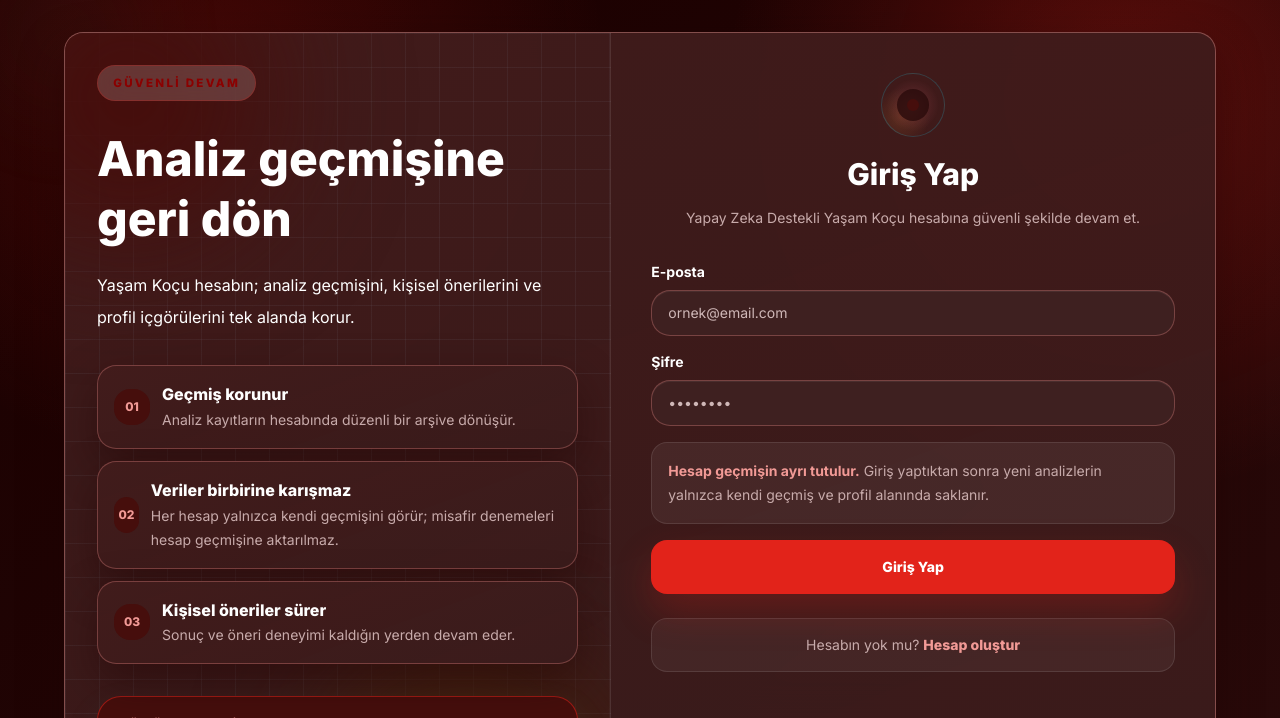
Scenario: Auth pages › login formu zorunlu alan uyarısını gösterir
Check: the field labelled "E-posta" is shown, box [651, 290, 1175, 336]
Check: the password field labelled "Şifre" is shown, box [651, 380, 1175, 426]
Click the button "Giriş Yap": (913, 567) [651, 540, 1175, 594]
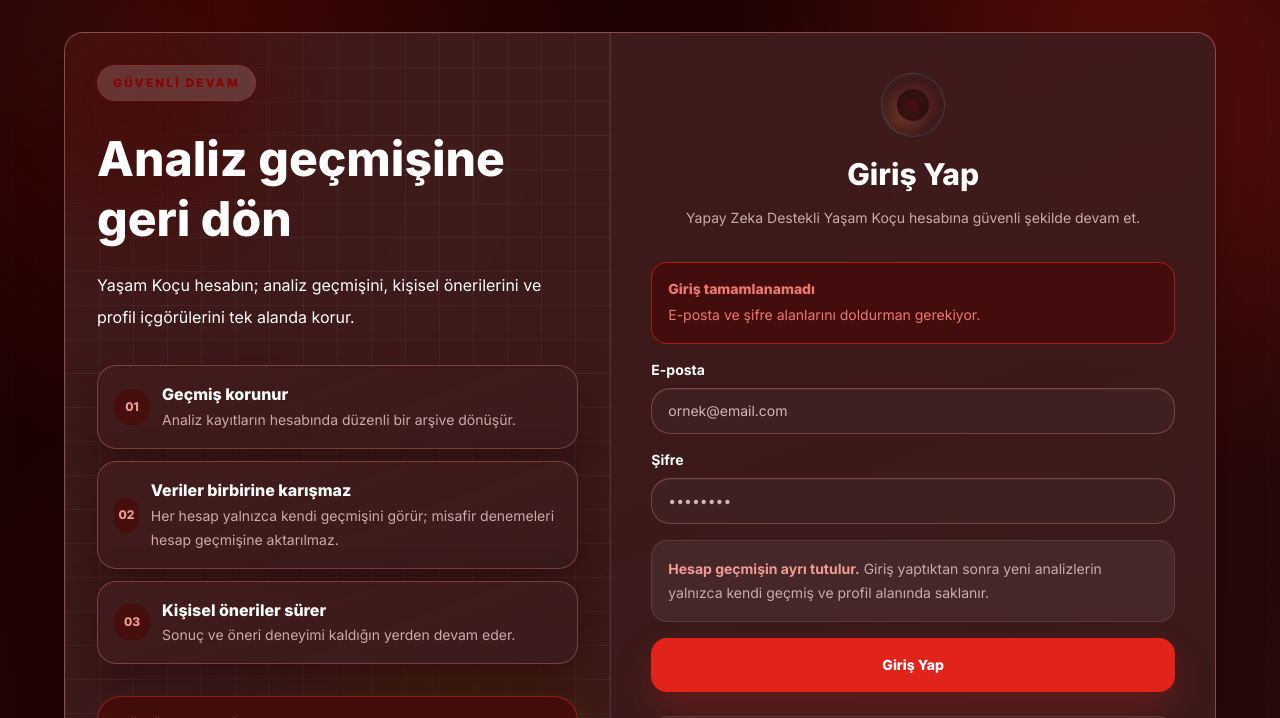
Check: the message reads "Giriş tamamlanamadı E-posta ve şifre alanlarını doldurman gerekiyor.", box [668, 306, 980, 323]
